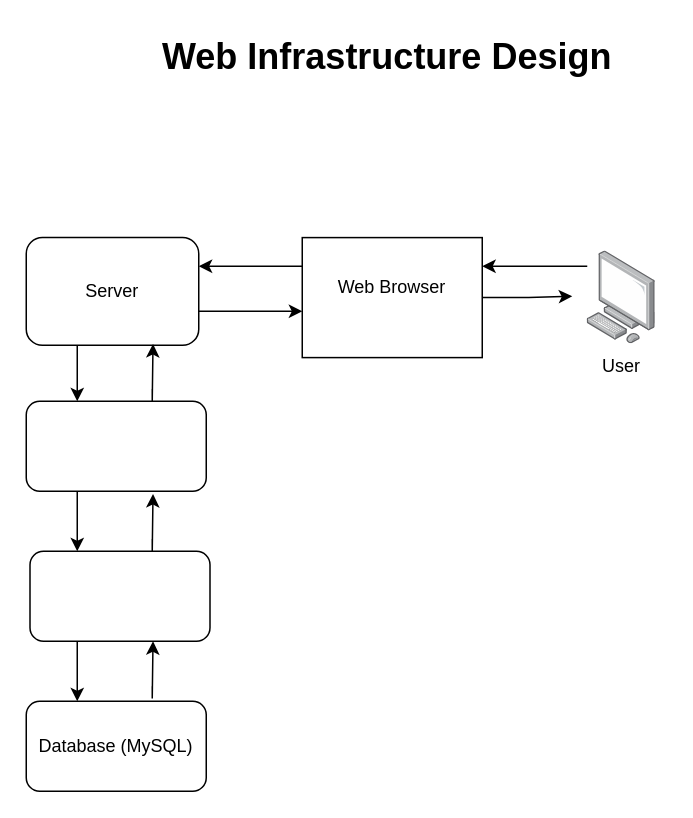
This 693x818 diagram has some shape labels left out. The centre of each missing label's shape, as x and y in pixels:
"Application Server" belongs at point (119, 595).
"web server (Nginx)" belongs at point (115, 445).
